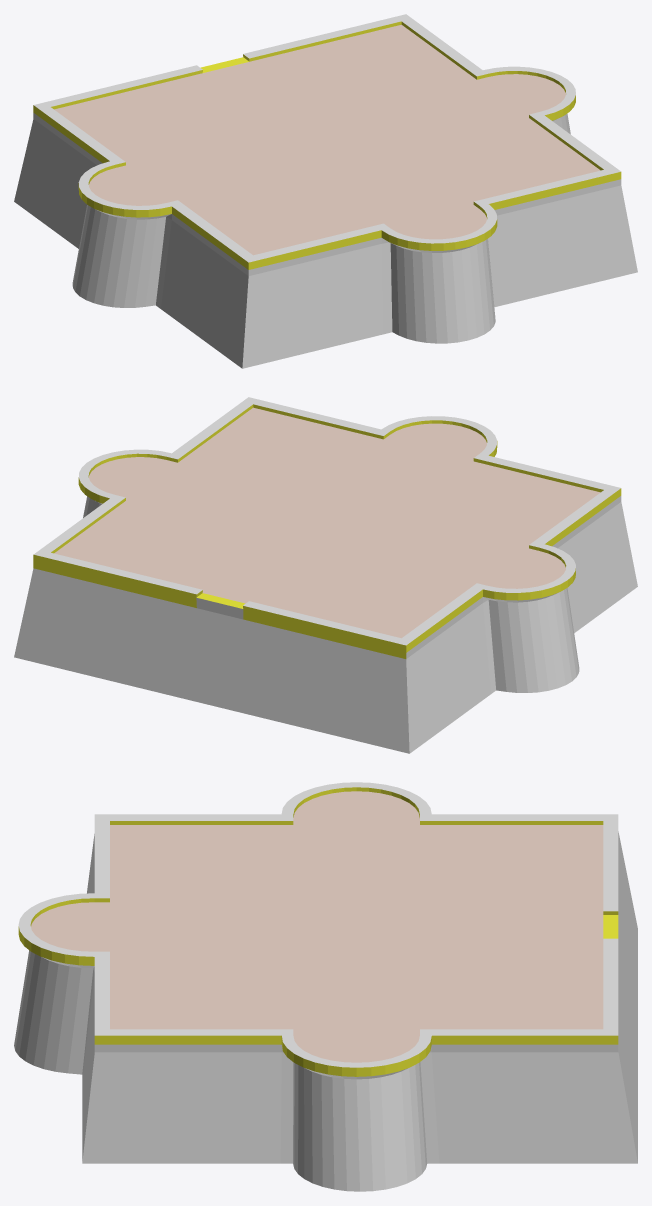
File: MainPlazza.fbx
3 views of the same model, one above another, from view 1: azimuth 30°, elevation 25°; view 2: azimuth 150°, elevation 25°; view 3: azimuth 270°, elevation 25° (orthographic). The views are drawn at different scales.
Parts seen in each view (by area): view 1: MainPlazza; view 2: MainPlazza; view 3: MainPlazza.
Boxes of the visible parts, <box> form: MainPlazza: <box>14,14,637,368</box>; MainPlazza: <box>14,397,637,753</box>; MainPlazza: <box>14,782,637,1191</box>.
Bounding box in the file's own units: 785 × 708 × 152.
